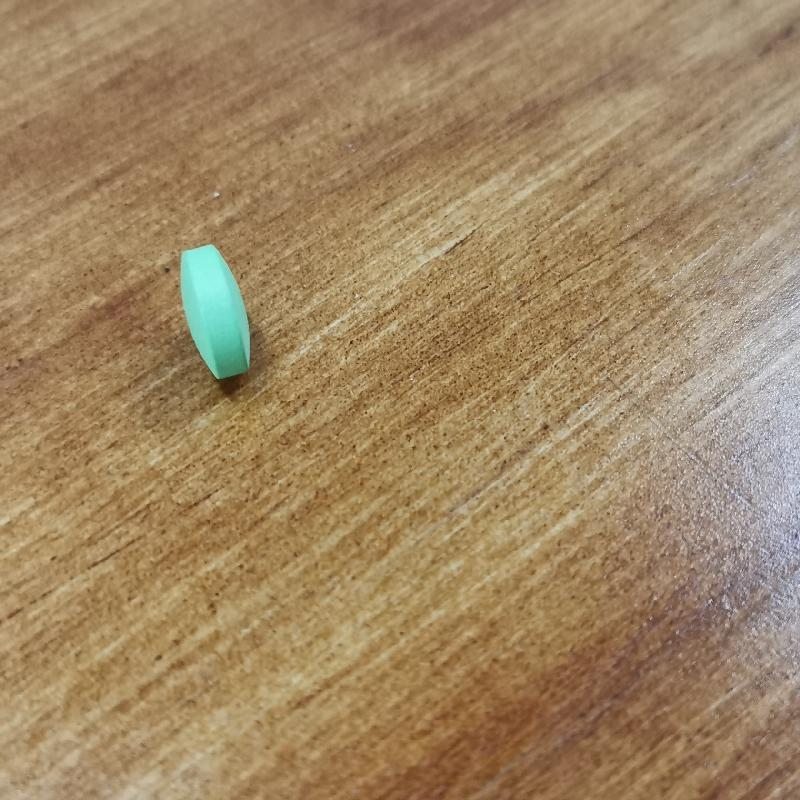pills: (162, 227, 277, 390)
